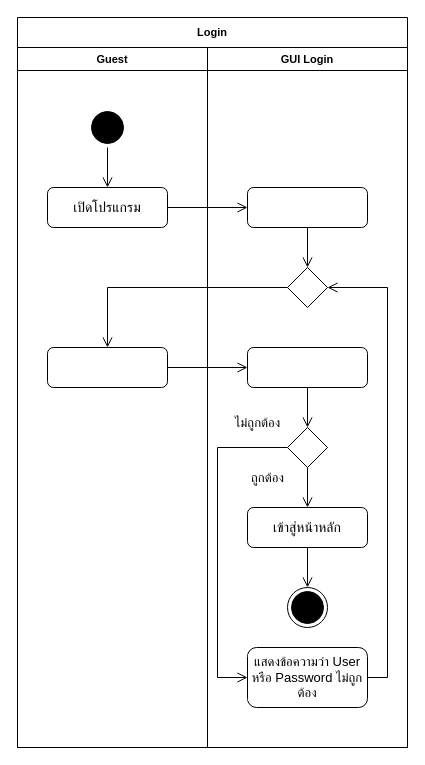
This 425x765 diagram has some shape labels left out. Here are the shapes that lost their labels. From the top down, the centre of each, then its label:
point (307, 207): แสดงหน้า Login
point (107, 367): กรอก User และ Password
point (307, 367): ตรวจสอบความถูกต้อง
